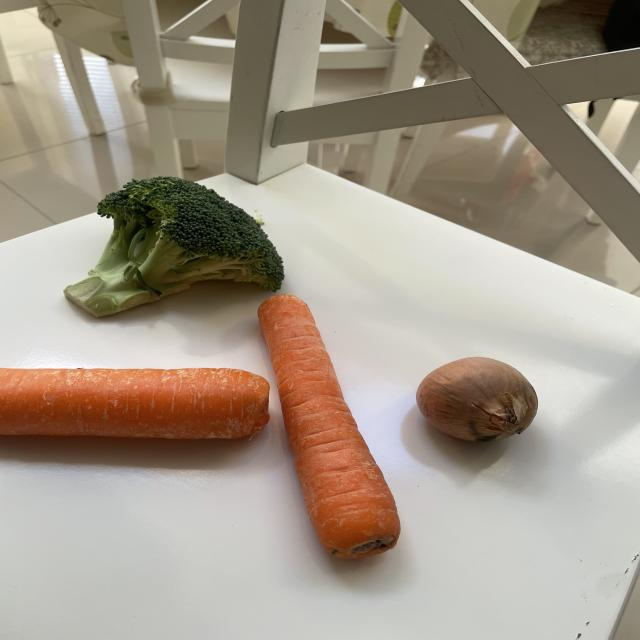Broccoli: (63, 174, 287, 318)
Carrot: (254, 293, 403, 561), (0, 367, 271, 442)
Onion: (416, 355, 539, 443)
